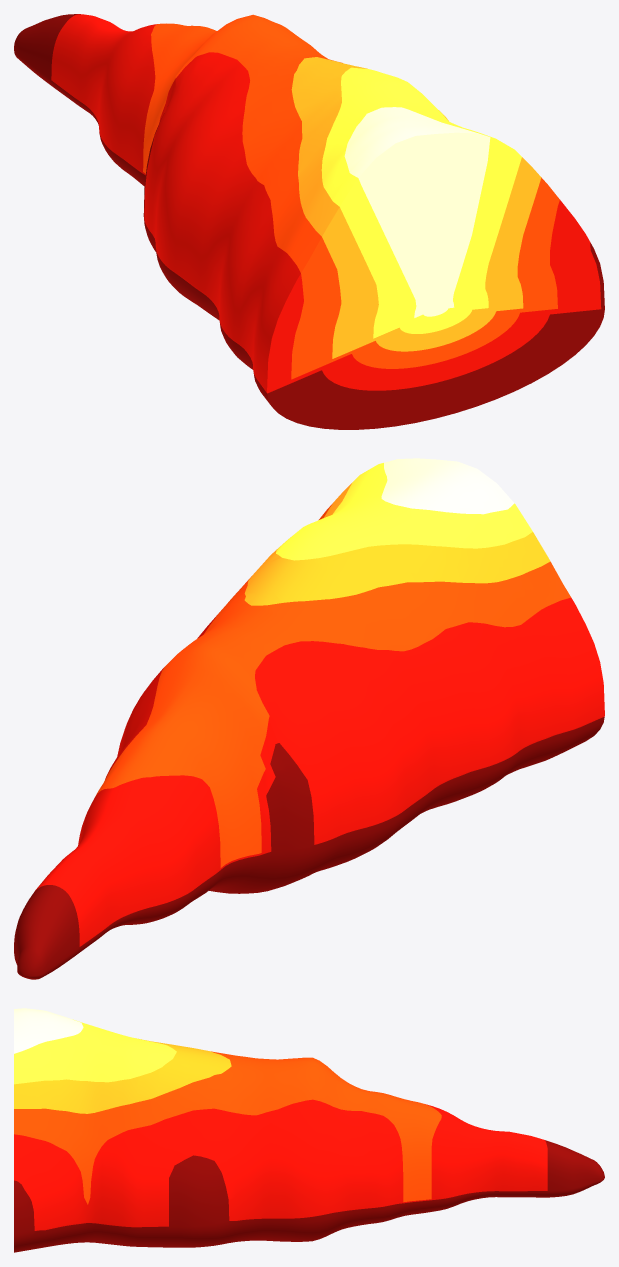
Rendered from comet_tail.glb.
The picture shows the model from 3 angles, top to bottom: view 1: azimuth 30°, elevation 25°; view 2: azimuth 150°, elevation 25°; view 3: azimuth 270°, elevation 25°; orthographic projection. The views are drawn at different scales.
Parts seen in each view (by area): view 1: tail; view 2: tail; view 3: tail.
Boxes of the visible parts, box(x1,y1,x2,y2) form: tail: box(14, 14, 604, 429); tail: box(14, 458, 604, 979); tail: box(14, 1008, 604, 1252).
Bounding box in the file's own units: 13.11 × 10.7 × 28.
